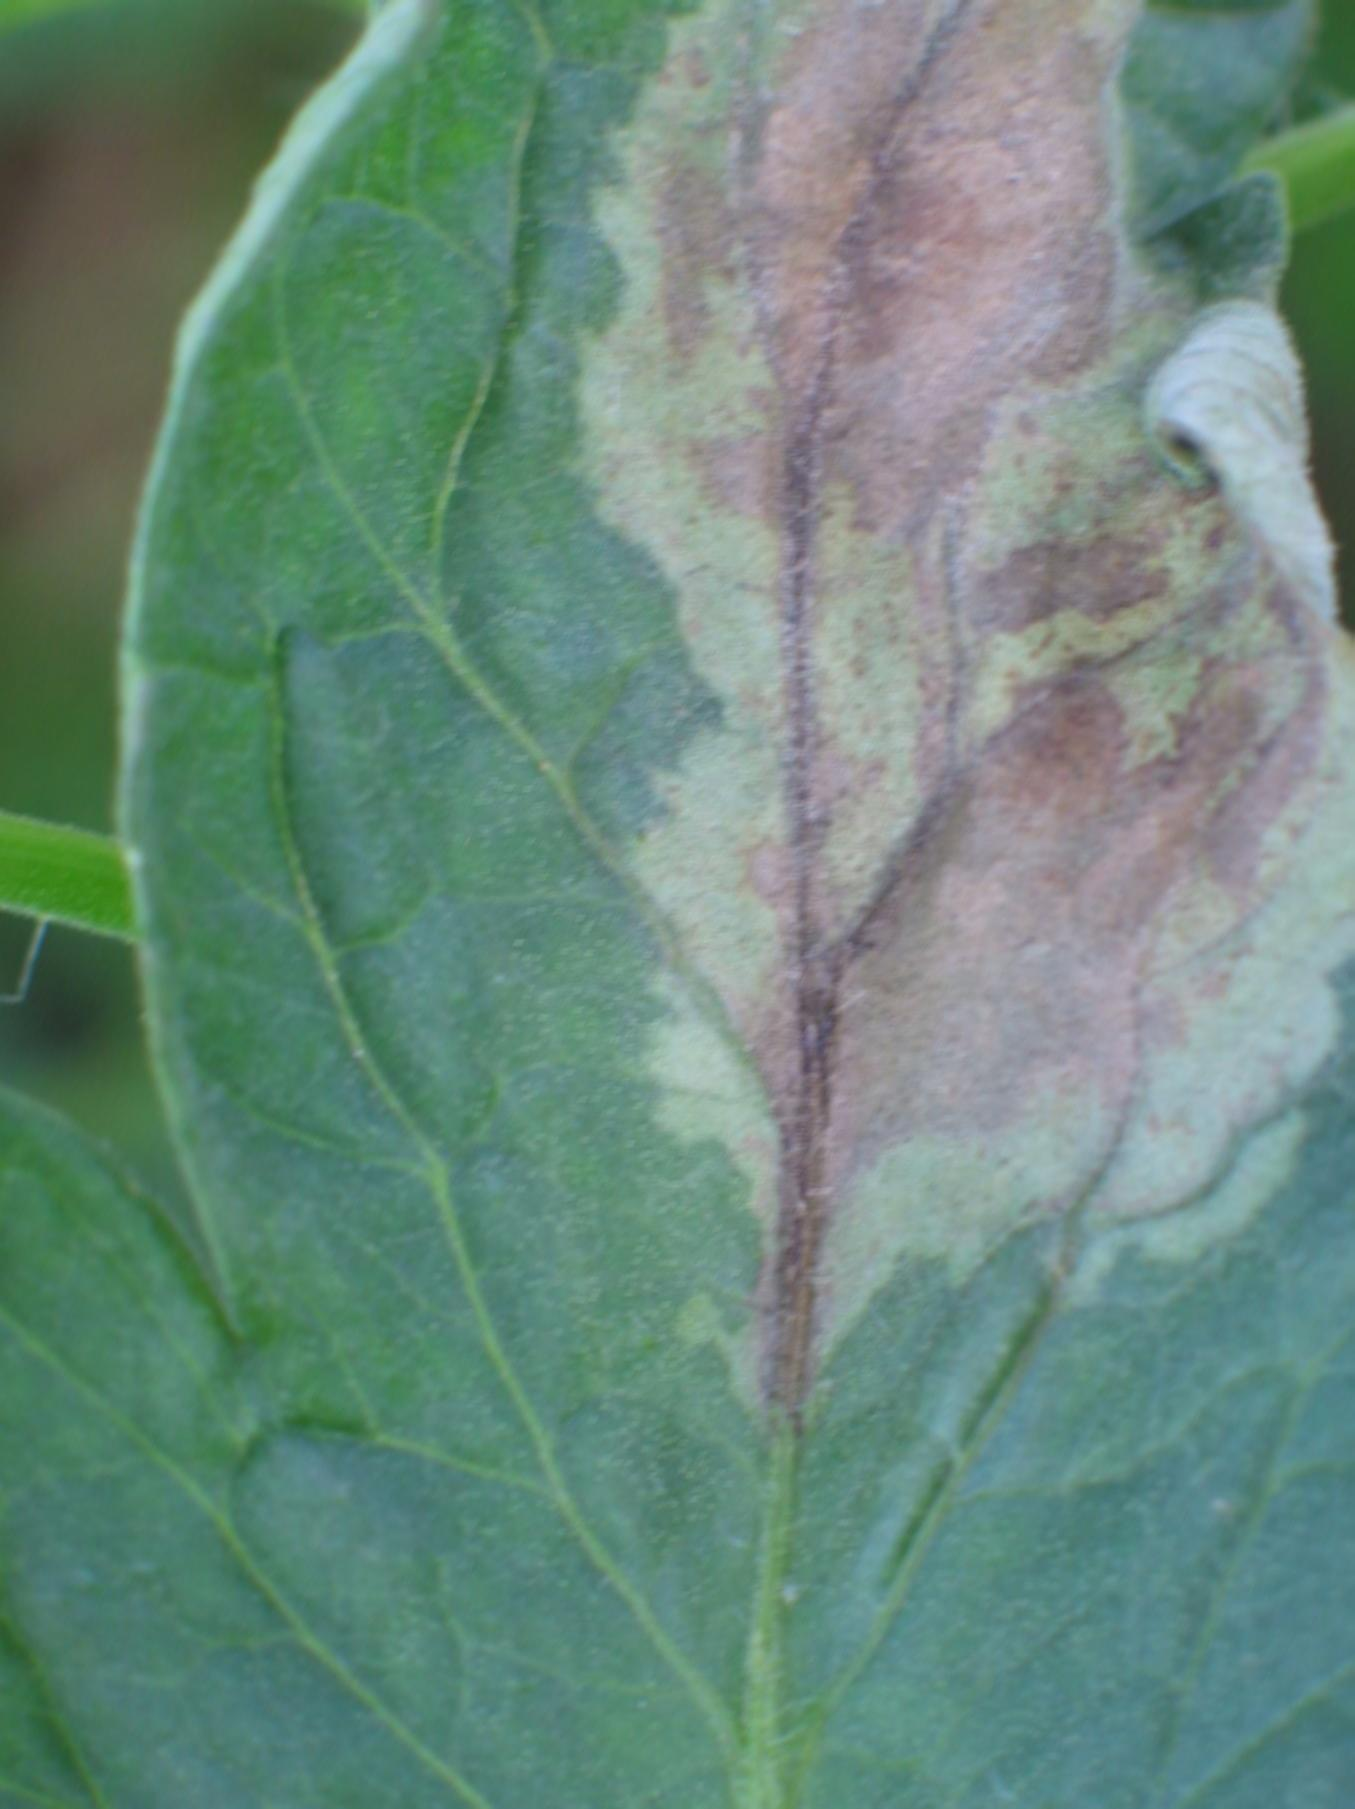Tomato leaf late blight: (1, 0, 1355, 1809)
